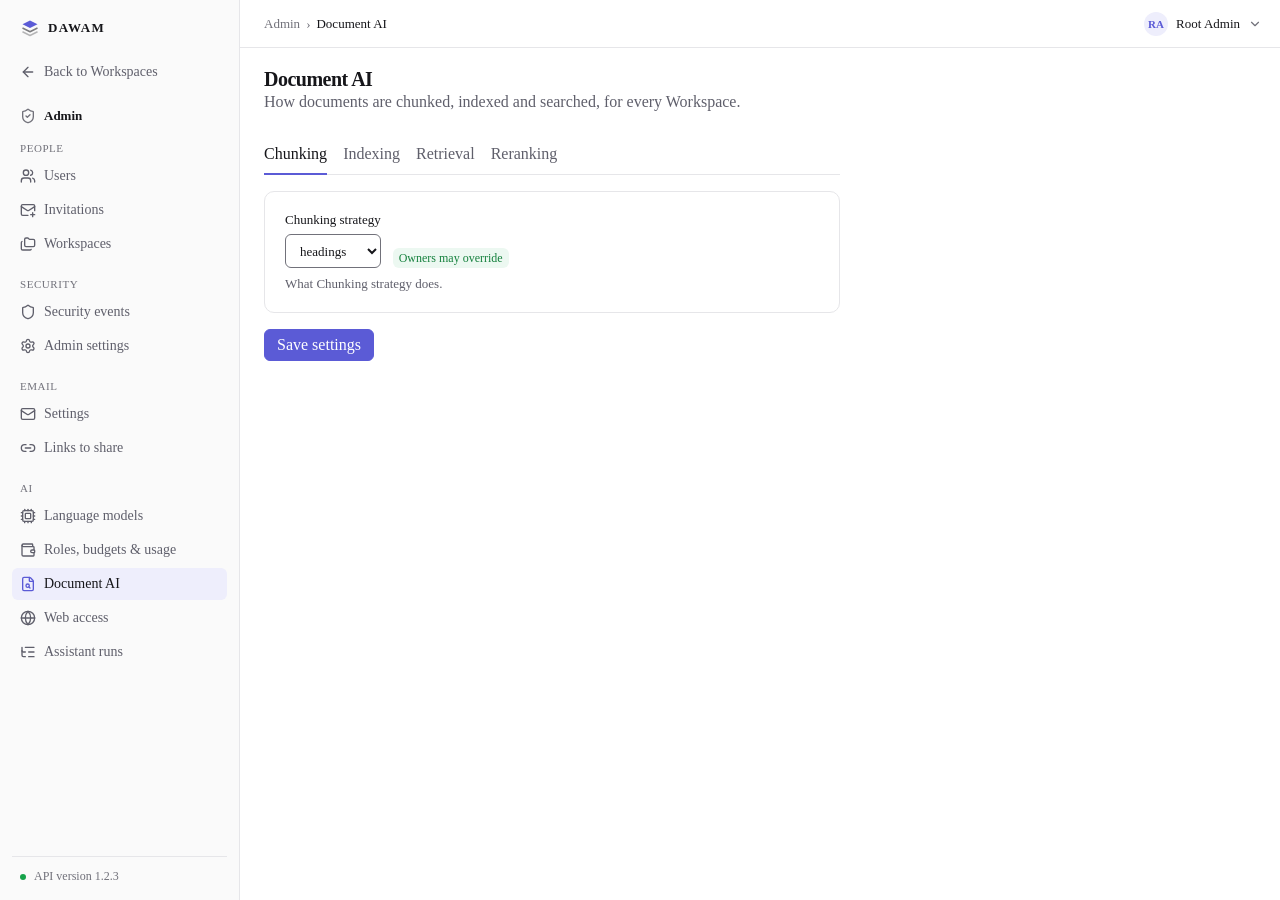
Test: the Document AI settings page › saves the values and bounds with the version it read
Press the mouse on the tab "Retrieval" at x=445, y=155, box x1=416 y1=135 x2=475 y2=175
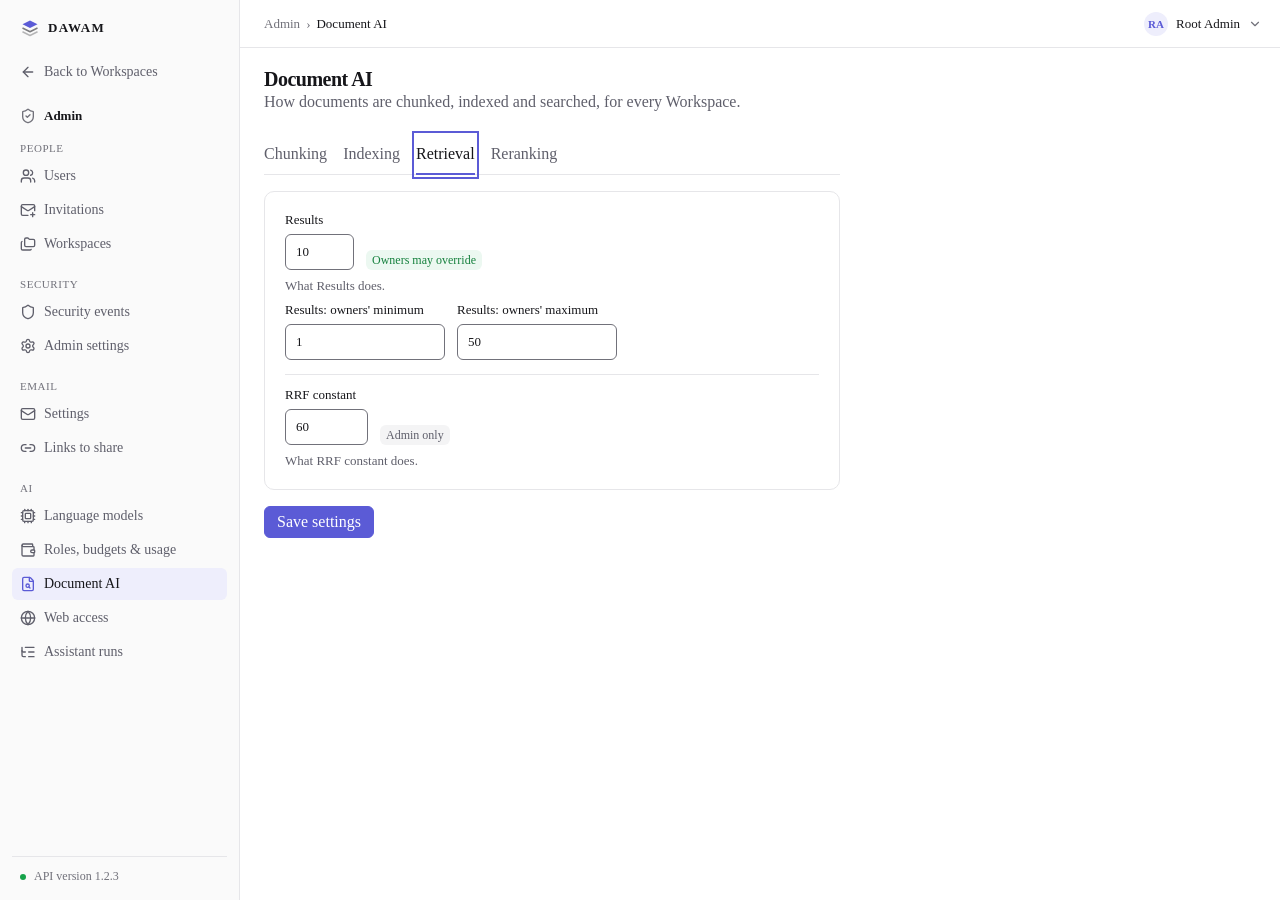
Replace the text in the number field labelled "RRF constant" with "80" at x=326, y=427, box x1=285 y1=409 x2=368 y2=445
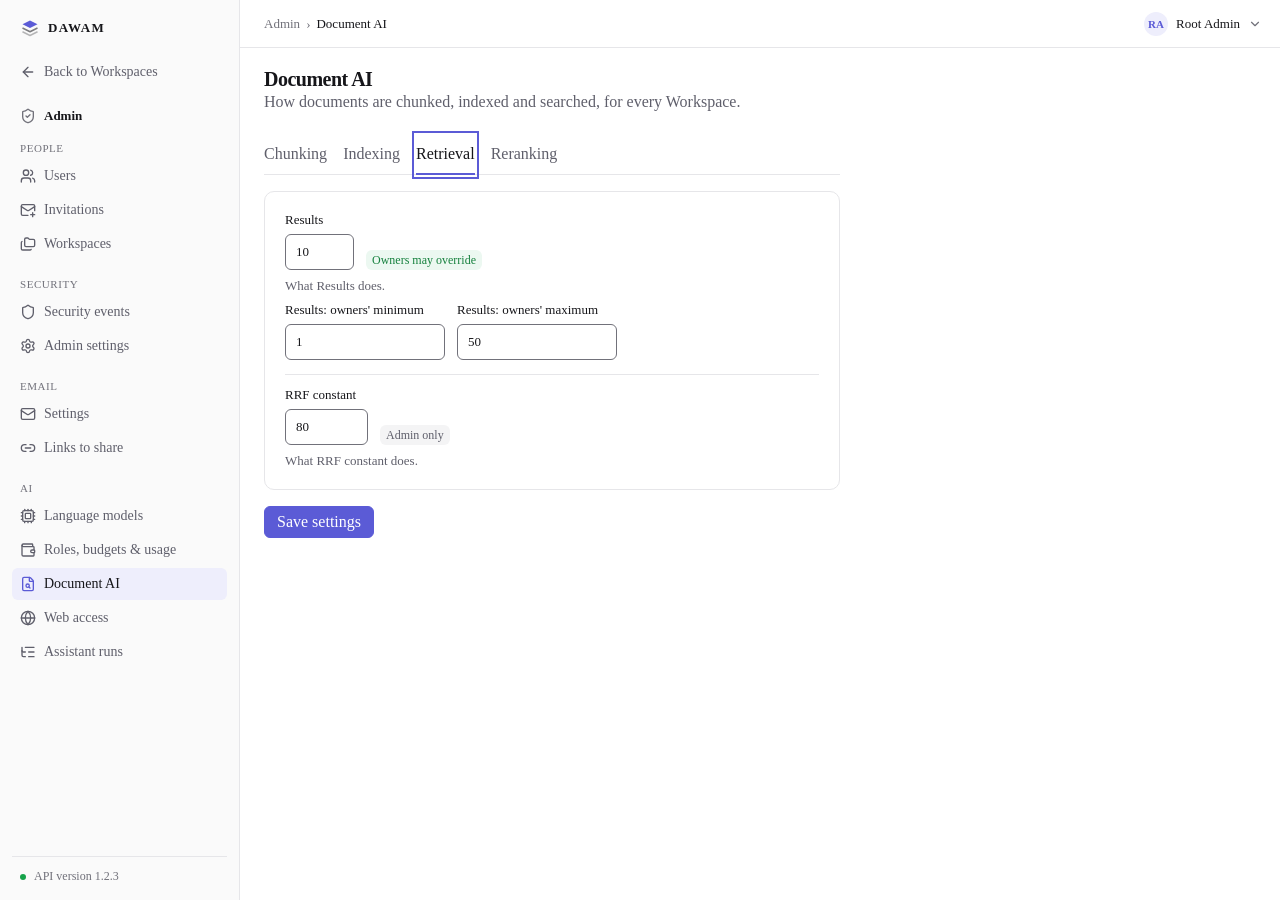
Replace the text in the number field labelled "Results: owners' maximum" with "20" at x=537, y=342, box x1=457 y1=324 x2=617 y2=360
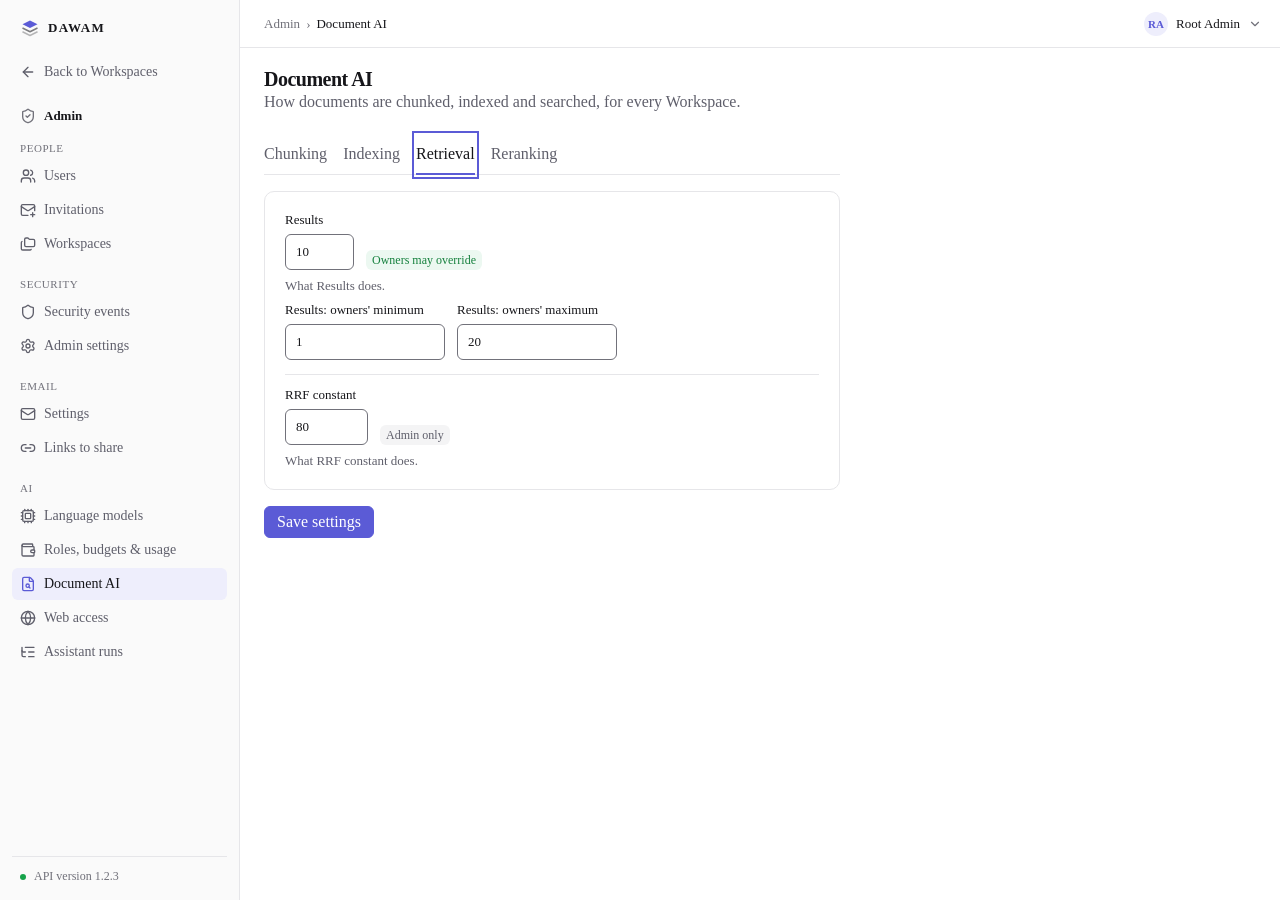
Press the mouse on the tab "Reranking" at x=524, y=155, box x1=491 y1=135 x2=557 y2=175
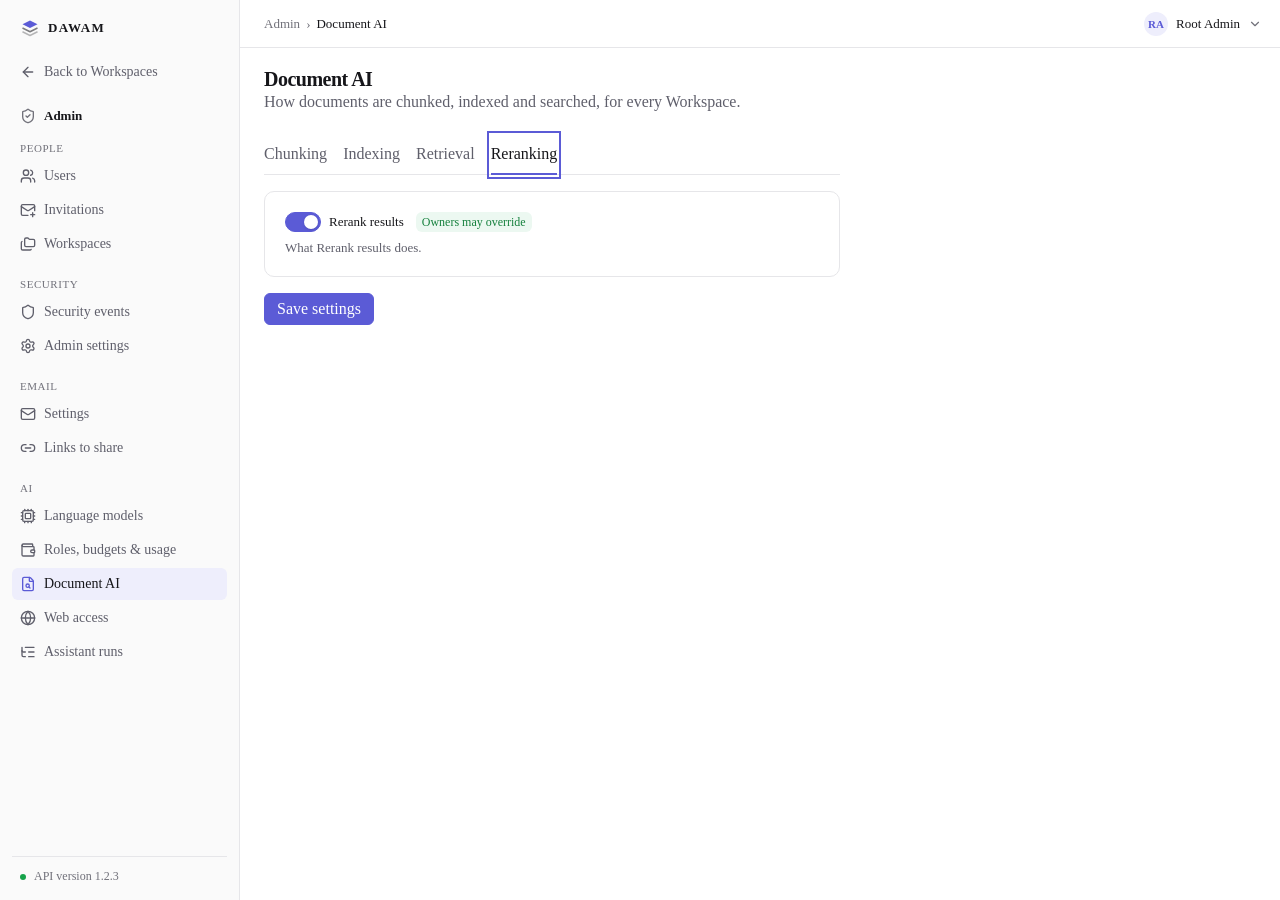
Click the switch named "Rerank results".
click(303, 222)  # box x1=285 y1=212 x2=321 y2=232
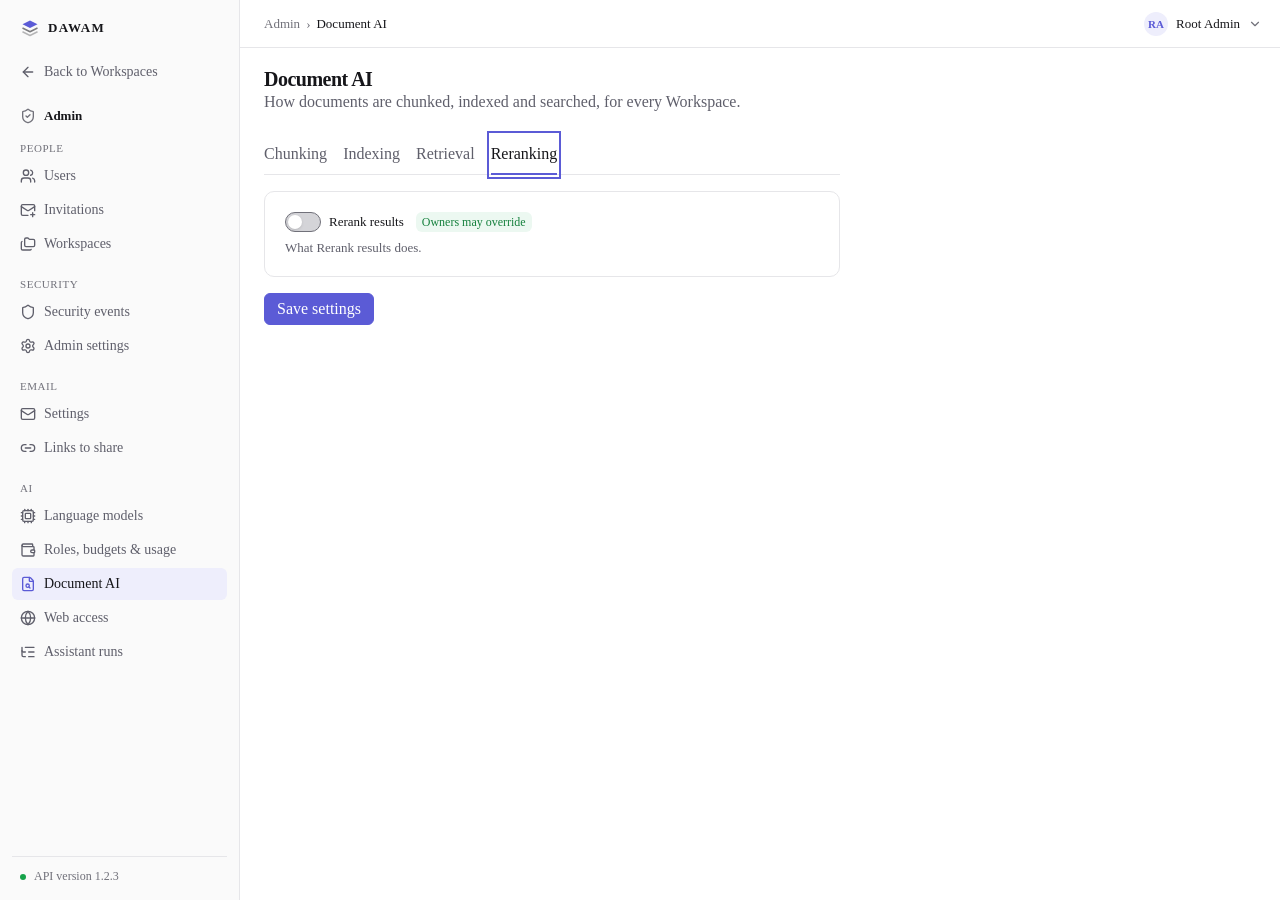
Click the button "Save settings".
click(319, 309)  # box x1=264 y1=293 x2=374 y2=325
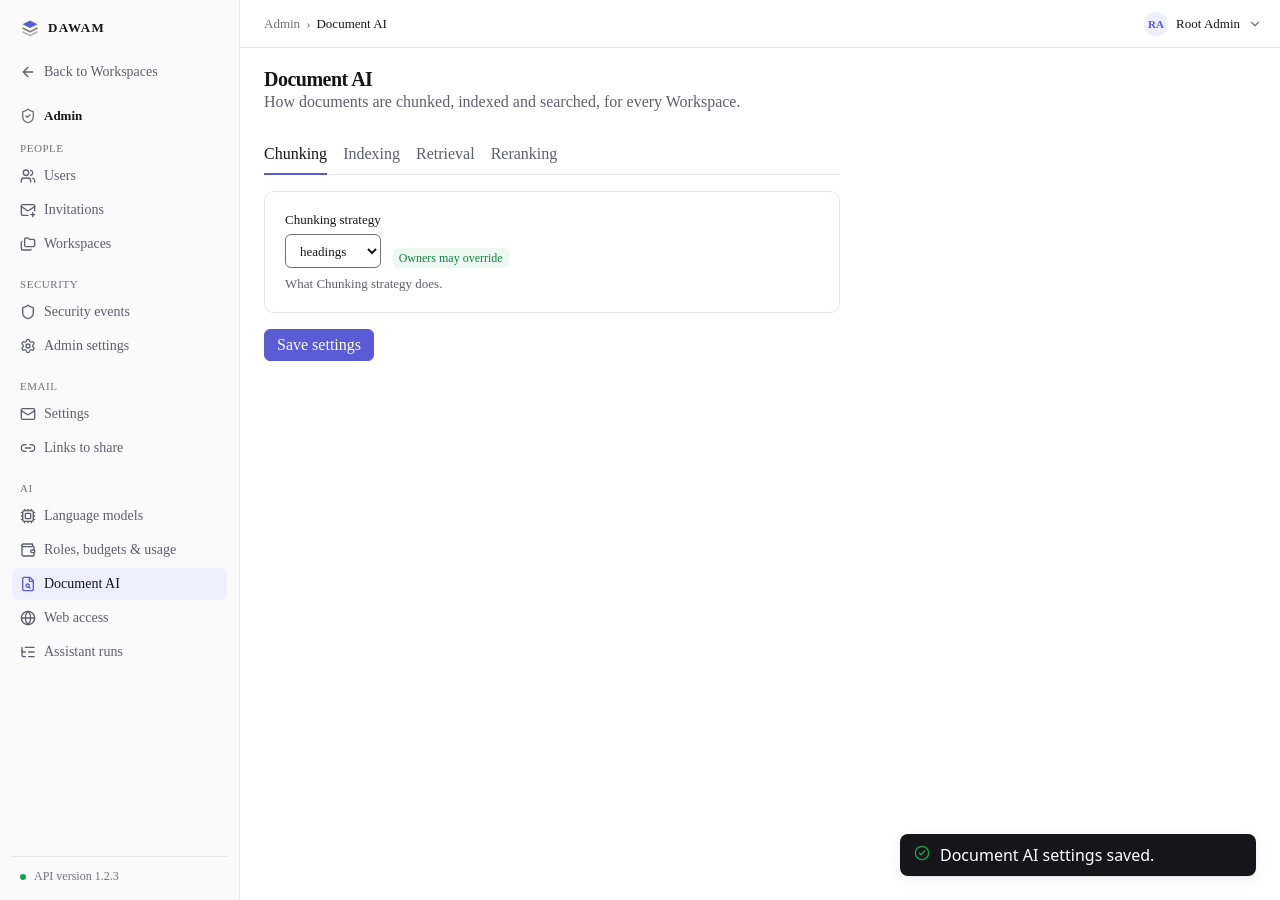
Now the text "Document AI settings saved." is shown, box x1=940 y1=844 x2=1154 y2=866
